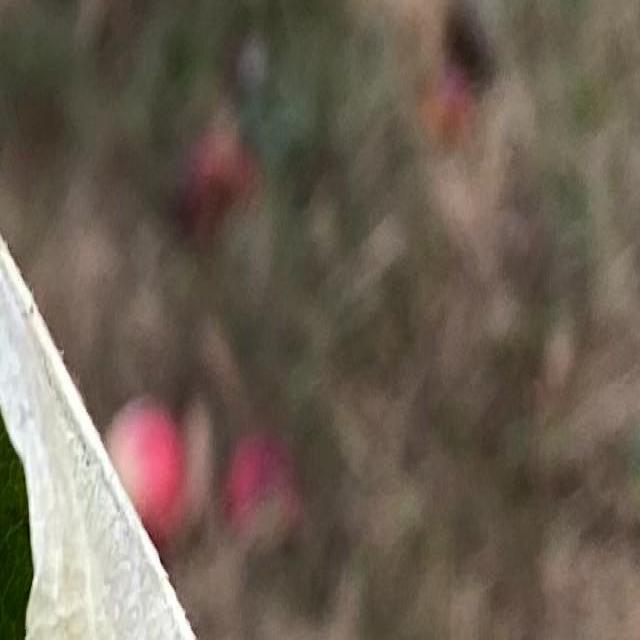Rotten Apple: (106, 393, 186, 546), (233, 432, 298, 556)
